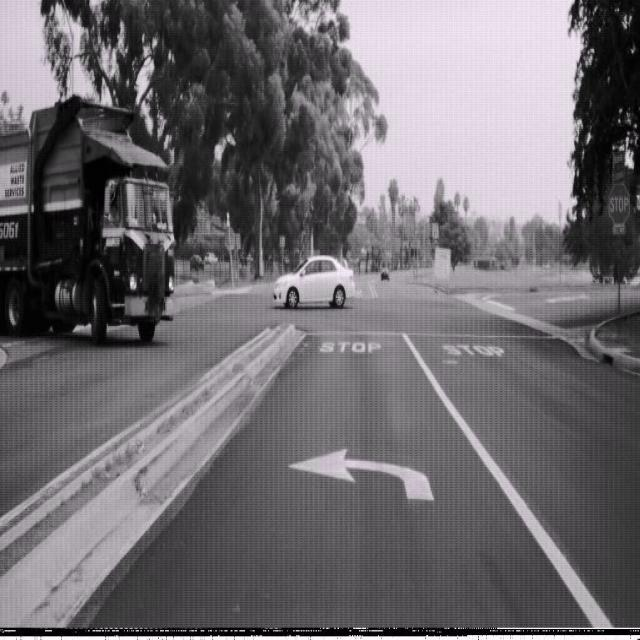stop_sign: (606, 180, 631, 226)
